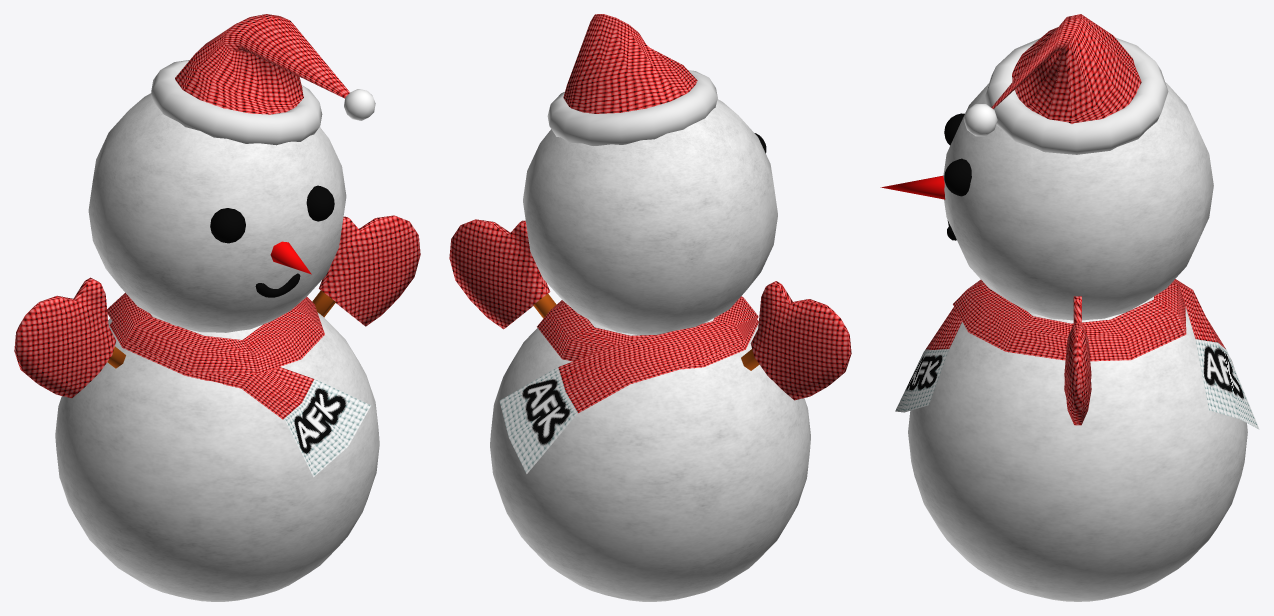
Rendered from AFK_Snowman.fbx.
3 renders of one model, left to right at view 1: azimuth 30°, elevation 25°; view 2: azimuth 150°, elevation 25°; view 3: azimuth 270°, elevation 25°, orthographic. The views are drawn at different scales.
Parts seen in each view (by area): view 1: AFK_Snowman; view 2: AFK_Snowman; view 3: AFK_Snowman.
Part boxes in pixels (left/top/right/bottom): AFK_Snowman: left=14, top=14, right=420, bottom=601; AFK_Snowman: left=449, top=14, right=851, bottom=601; AFK_Snowman: left=880, top=14, right=1259, bottom=601.
Size of the model in its own units: 143 by 190 by 112.
Materials: 1 (1 with a texture image).
